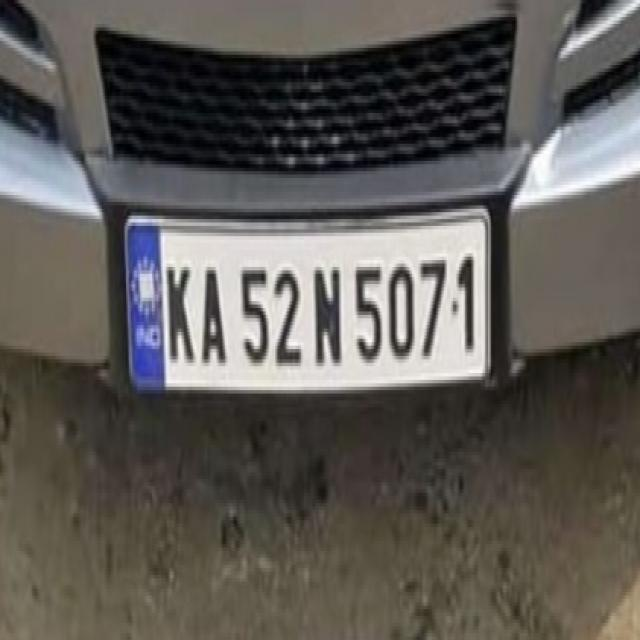0: (385, 254, 415, 367)
1: (453, 247, 481, 359)
5: (352, 257, 385, 367), (239, 260, 272, 368)
7: (418, 252, 449, 358)
A: (198, 257, 230, 375)
K: (162, 257, 195, 368)
N: (312, 261, 344, 370)
